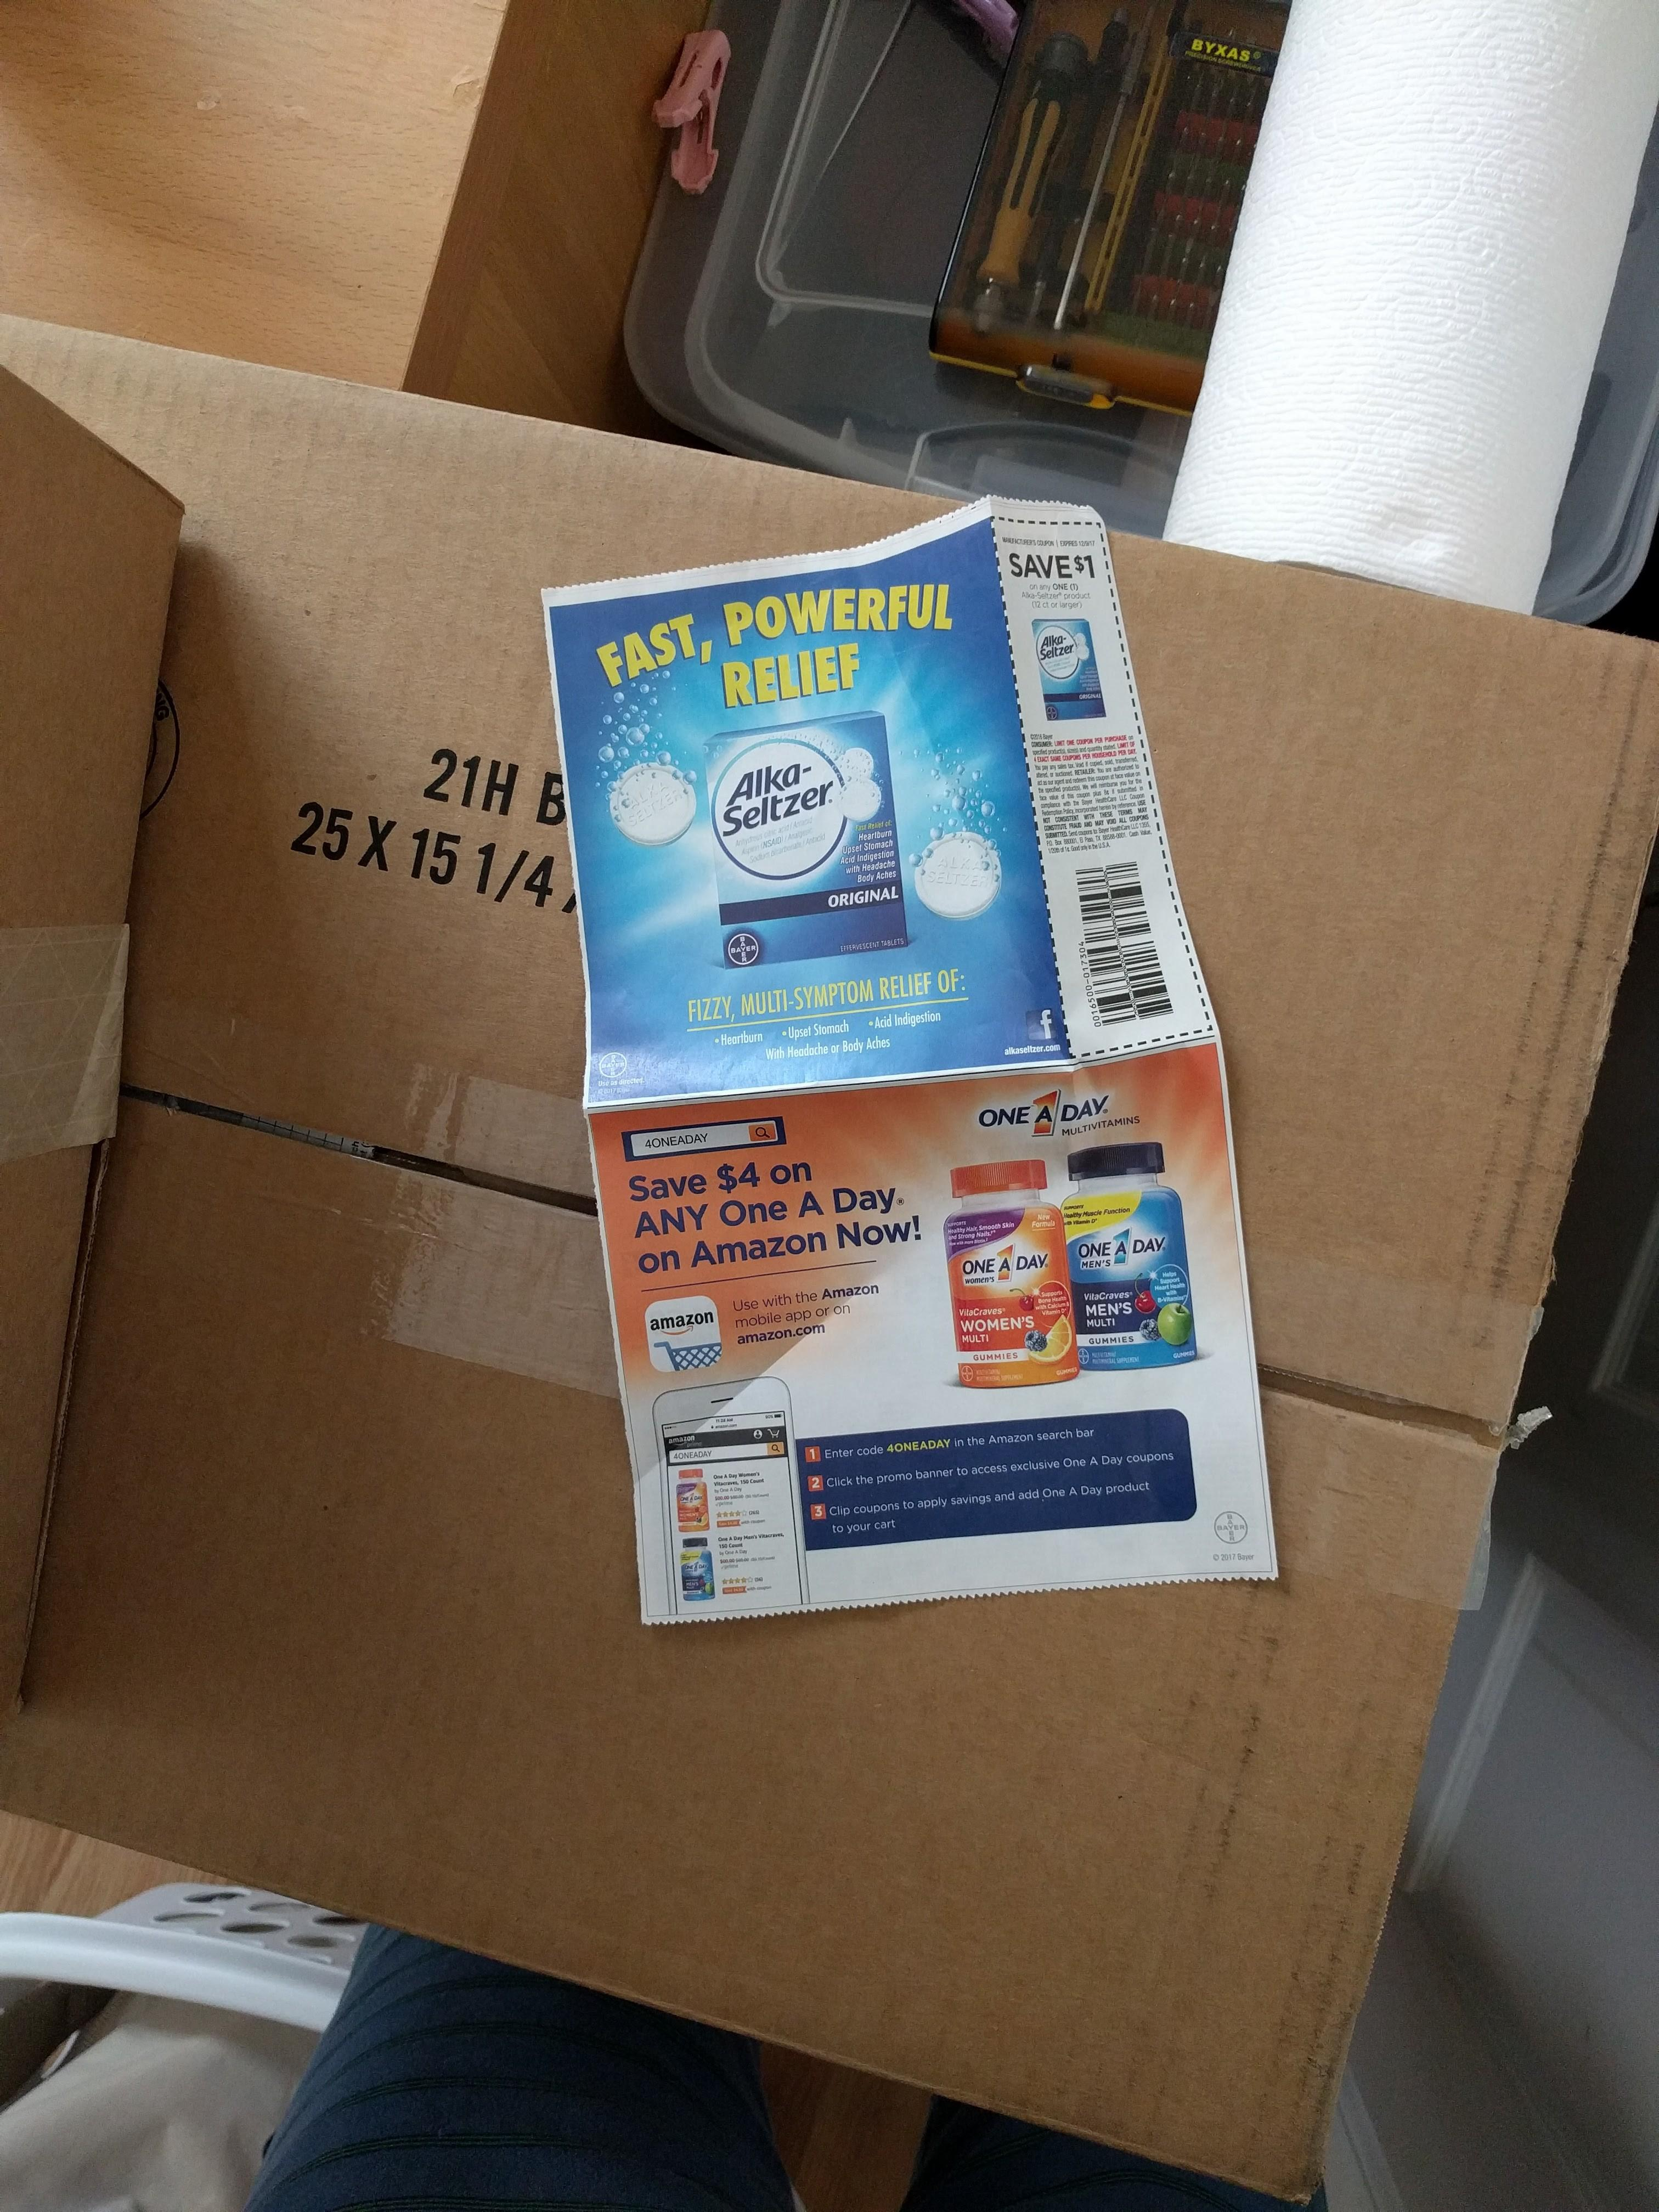paper: (383, 444, 1377, 1763)
